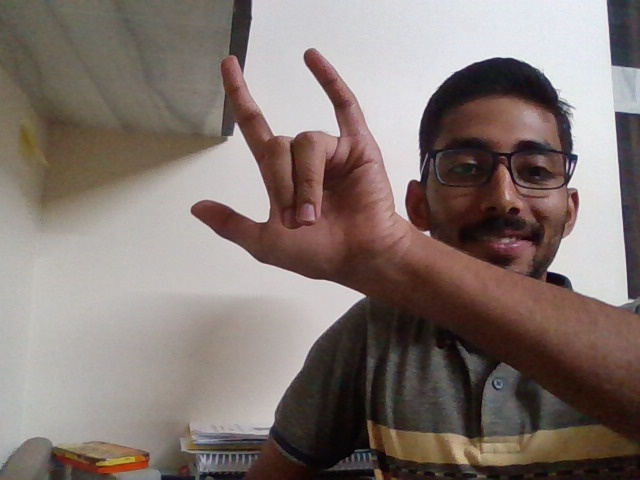Enjoy: (181, 34, 415, 327)
